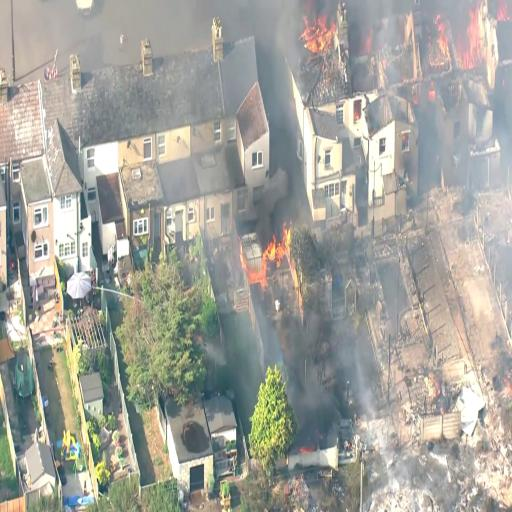fire: (238, 220, 294, 292), (431, 14, 487, 72), (298, 6, 337, 57)
